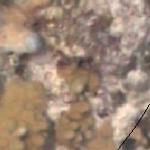alive: (4, 2, 147, 146)
